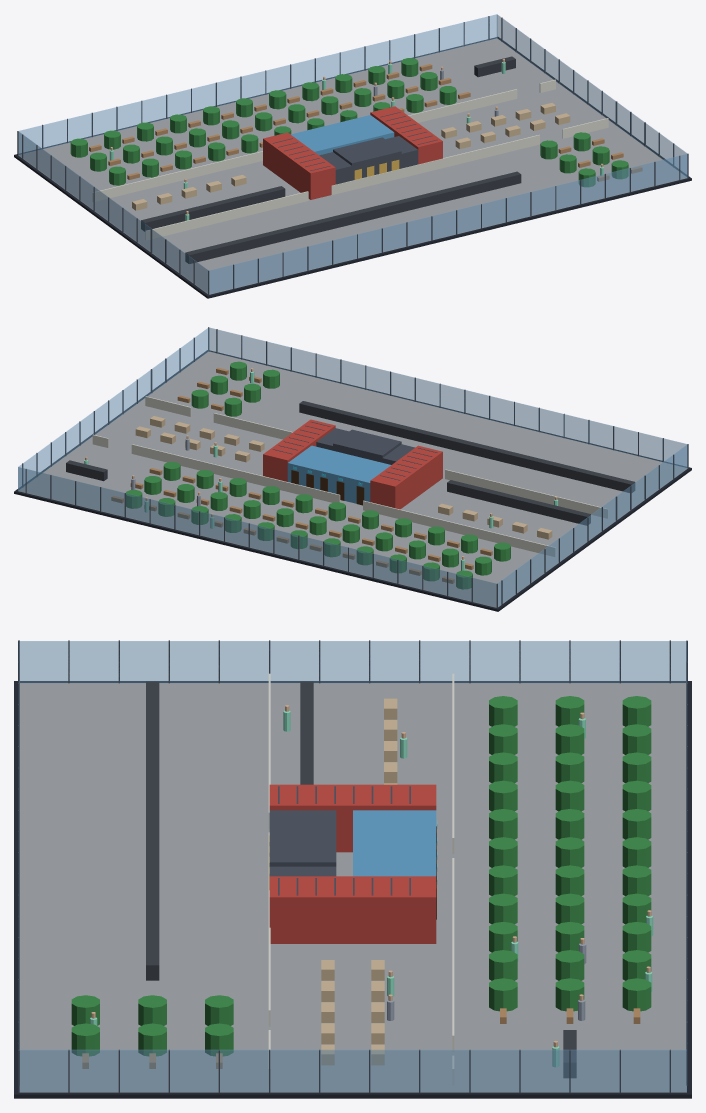
The picture shows the model from 3 angles, top to bottom: view 1: azimuth 30°, elevation 25°; view 2: azimuth 150°, elevation 25°; view 3: azimuth 270°, elevation 25°; orthographic projection. The views are drawn at different scales.
Parts seen in each view (by area): view 1: LG_floor_tile, LG_glass, LG_plant, LG_wall, LG_counter, LG_core, LG_stair, LG_slab, LG_table, LG_desk, LG_wash; view 2: LG_floor_tile, LG_glass, LG_plant, LG_wall, LG_counter, LG_core, LG_stair, LG_slab, LG_wash, LG_table, LG_desk, LG_door_closed (+1 smaller); view 3: LG_floor_tile, LG_glass, LG_plant, LG_stair, LG_slab, LG_core, LG_counter, LG_wash, LG_desk, LG_wall, LG_role_host, LG_table.
Part boxes in pixels (box(x1,y1,x2,y2)): LG_floor_tile: box(18, 38, 687, 294); LG_glass: box(18, 14, 687, 294); LG_plant: box(70, 58, 628, 187); LG_wall: box(92, 79, 608, 240); LG_counter: box(141, 56, 521, 263); LG_core: box(17, 16, 688, 295); LG_stair: box(263, 106, 442, 199); LG_slab: box(14, 37, 691, 298); LG_table: box(89, 64, 642, 181); LG_desk: box(132, 103, 570, 210); LG_wash: box(291, 115, 394, 155); LG_floor_tile: box(18, 351, 687, 607); LG_glass: box(18, 327, 687, 607); LG_plant: box(126, 361, 510, 589); LG_wall: box(92, 396, 608, 556); LG_counter: box(66, 401, 635, 525); LG_core: box(22, 327, 688, 608); LG_stair: box(263, 419, 442, 509); LG_slab: box(14, 350, 691, 611); LG_wash: box(287, 445, 391, 503); LG_table: box(111, 367, 492, 583); LG_desk: box(135, 416, 552, 539); LG_door_closed: box(291, 470, 364, 505); LG_floor_tile: box(19, 683, 686, 1092); LG_glass: box(19, 641, 686, 1092); LG_plant: box(71, 696, 651, 1056); LG_stair: box(269, 784, 436, 943); LG_slab: box(14, 681, 691, 1098); LG_core: box(18, 640, 687, 1092); LG_counter: box(146, 681, 576, 1078); LG_wash: box(353, 810, 436, 876); LG_desk: box(321, 698, 397, 1065); LG_wall: box(268, 673, 454, 1085); LG_role_host: box(90, 710, 653, 1067); LG_table: box(82, 1008, 640, 1068).
Bounding box in the file's own units: 58.6 × 3.37 × 40.6.
